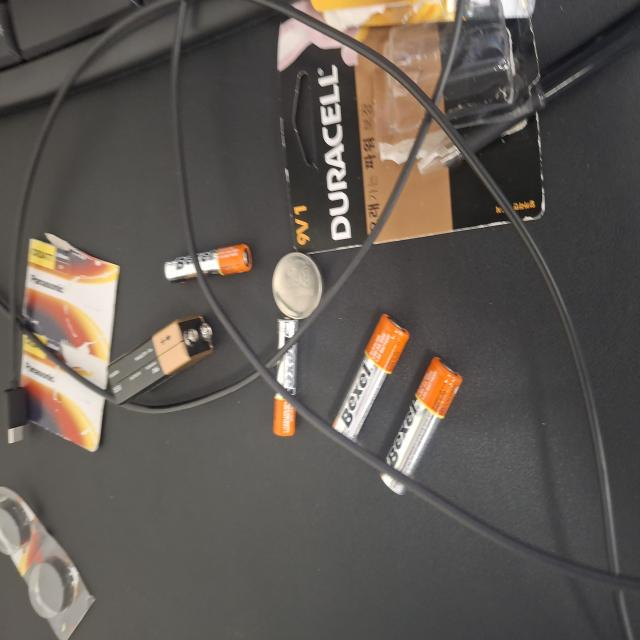9V: (176, 141, 245, 286)
AA: (108, 506, 211, 616), (147, 444, 245, 544)
AAA: (268, 219, 297, 337), (153, 364, 246, 399)
COIN: (240, 362, 292, 428)
